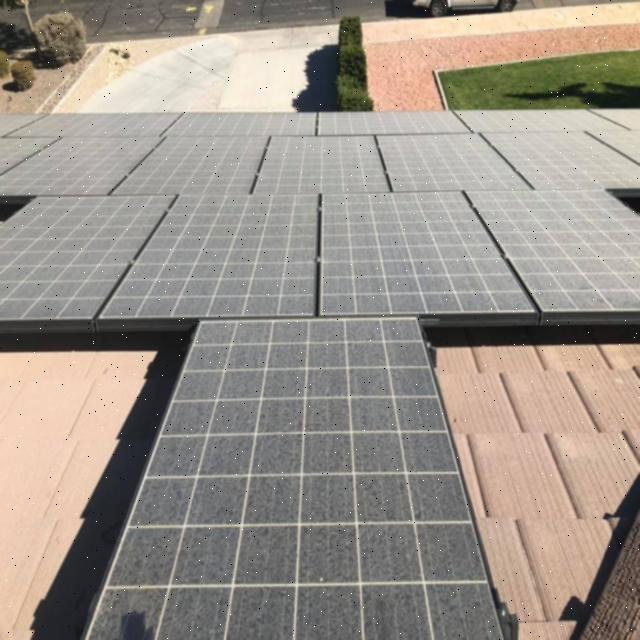dusty: (0, 104, 640, 636)
